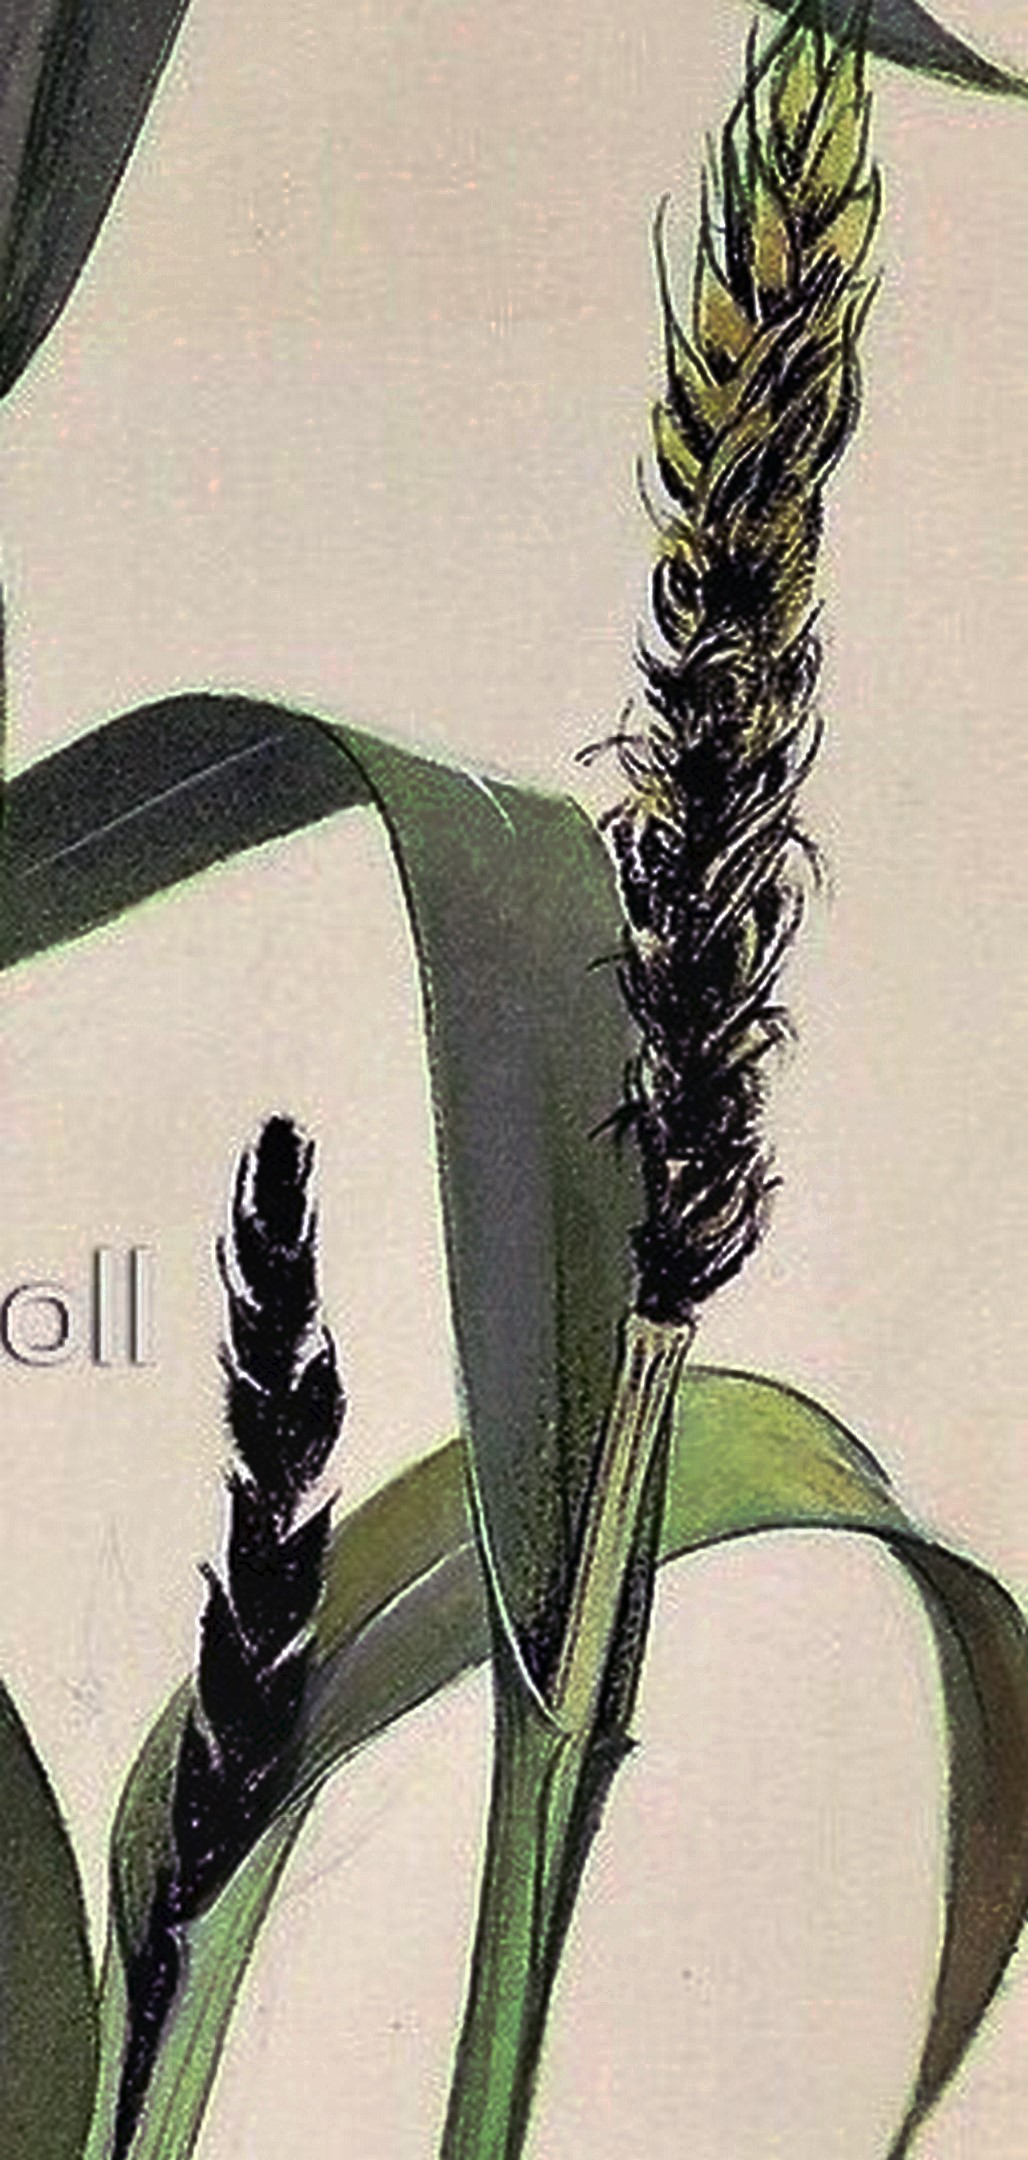Wheat Loose Smut: (134, 1080, 380, 1791)
